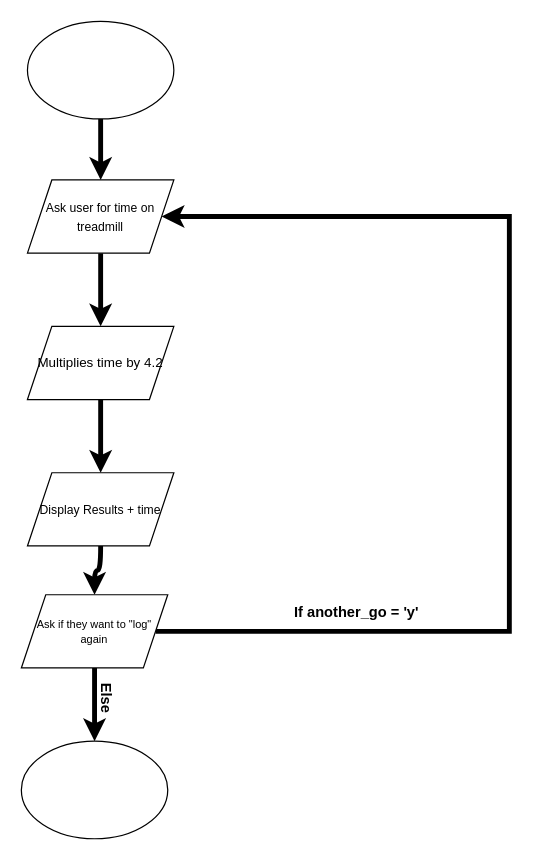
Some shapes in this 543 by 860 pixel diagram are drawn without their labels. The shapes that lost their labels are listed below. From the top down, each one's box as (x1, y1, x2, y2) in pixels, then its label:
(26, 20, 174, 119): Start
(20, 740, 168, 839): end
